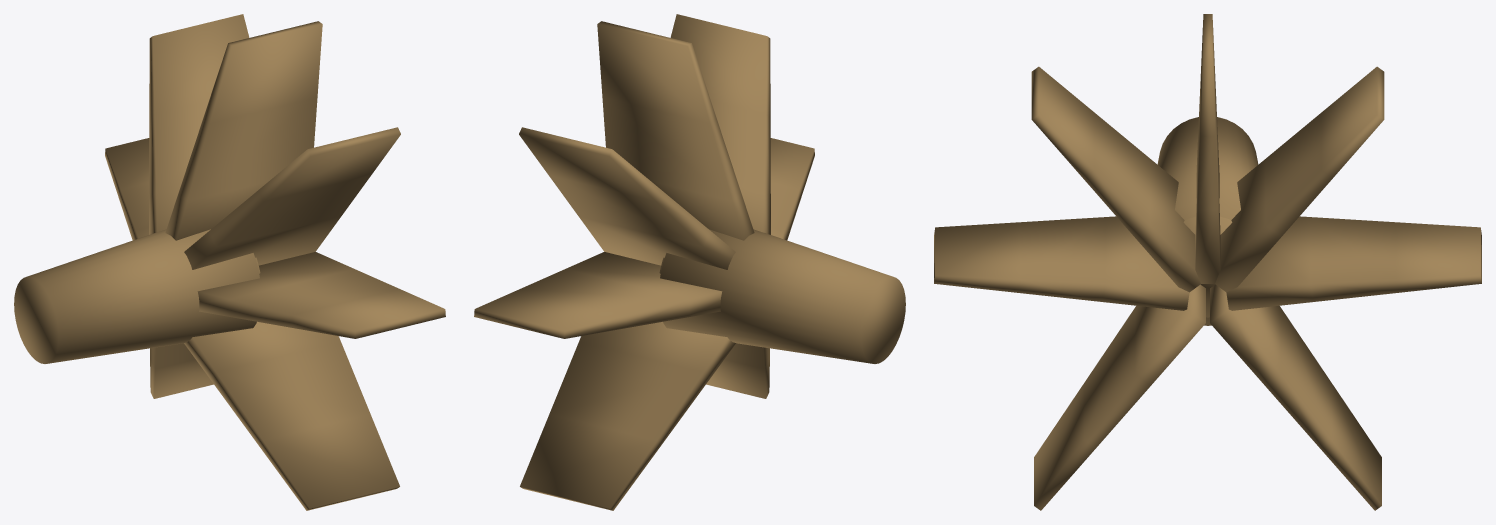
The model's file is RU_SSBN_DeltaII_PROPULSOR_01.fbx.
The picture shows the model from 3 angles, left to right: view 1: azimuth 30°, elevation 25°; view 2: azimuth 150°, elevation 25°; view 3: azimuth 270°, elevation 25°; orthographic projection. The views are drawn at different scales.
Visible parts, largest first — view 1: RU_SSBN_DeltaII_PROPULSOR_01; view 2: RU_SSBN_DeltaII_PROPULSOR_01; view 3: RU_SSBN_DeltaII_PROPULSOR_01.
Boxes of the visible parts, x1,y1,x2,y2 form: RU_SSBN_DeltaII_PROPULSOR_01: (14,14,445,510); RU_SSBN_DeltaII_PROPULSOR_01: (474,14,905,510); RU_SSBN_DeltaII_PROPULSOR_01: (934,14,1481,510).
Size of the model in its own units: 2.2 by 3.36 by 3.04.
